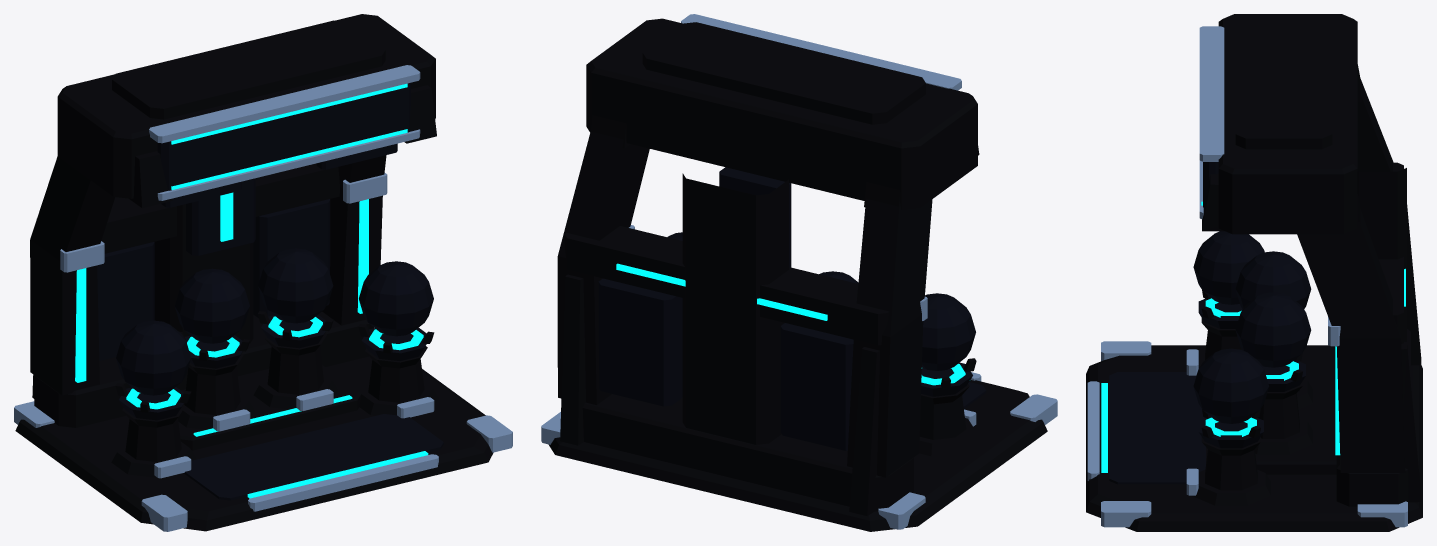
Rendered from SM_Hub_CustomizeKiosk_01.glb.
3 renders of one model, left to right at view 1: azimuth 30°, elevation 25°; view 2: azimuth 150°, elevation 25°; view 3: azimuth 270°, elevation 25°, orthographic. The views are drawn at different scales.
Parts seen in each view (by area): view 1: GEO_CustomizeKiosk_Frame, GEO_CustomizeKiosk_Base, GEO_CustomizeKiosk_SecondaryPanels, GEO_CustomizeKiosk_Trim, GEO_CustomizeKiosk_DisplayHeader, GEO_CustomizeKiosk_CyanAccents, GEO_CustomizeKiosk_PreviewSphere_03, GEO_CustomizeKiosk_PreviewSphere_02, GEO_CustomizeKiosk_PreviewSphere_04, GEO_CustomizeKiosk_PreviewSphere_01, GEO_CustomizeKiosk_DisplayPedestal_03, GEO_CustomizeKiosk_DisplayPedestal_01 (+2 smaller); view 2: GEO_CustomizeKiosk_Frame, GEO_CustomizeKiosk_Base, GEO_CustomizeKiosk_SecondaryPanels, GEO_CustomizeKiosk_Trim, GEO_CustomizeKiosk_PreviewSphere_01, GEO_CustomizeKiosk_DisplayPedestal_01, GEO_CustomizeKiosk_CyanAccents; view 3: GEO_CustomizeKiosk_Frame, GEO_CustomizeKiosk_Base, GEO_CustomizeKiosk_SecondaryPanels, GEO_CustomizeKiosk_Trim, GEO_CustomizeKiosk_PreviewSphere_04, GEO_CustomizeKiosk_PreviewSphere_03, GEO_CustomizeKiosk_DisplayPedestal_04, GEO_CustomizeKiosk_PreviewSphere_01, GEO_CustomizeKiosk_DisplayPedestal_03, GEO_CustomizeKiosk_PreviewSphere_02, GEO_CustomizeKiosk_CyanAccents, GEO_CustomizeKiosk_DisplayPedestal_01.
Part boxes in pixels (box(x1,y1,x2,y2)): GEO_CustomizeKiosk_Frame: box(30, 14, 436, 398); GEO_CustomizeKiosk_Base: box(15, 311, 493, 531); GEO_CustomizeKiosk_SecondaryPanels: box(97, 178, 443, 500); GEO_CustomizeKiosk_Trim: box(14, 65, 512, 531); GEO_CustomizeKiosk_DisplayHeader: box(157, 82, 410, 207); GEO_CustomizeKiosk_CyanAccents: box(75, 83, 428, 498); GEO_CustomizeKiosk_PreviewSphere_03: box(258, 248, 333, 323); GEO_CustomizeKiosk_PreviewSphere_02: box(174, 268, 249, 343); GEO_CustomizeKiosk_PreviewSphere_04: box(359, 261, 433, 336); GEO_CustomizeKiosk_PreviewSphere_01: box(116, 320, 190, 395); GEO_CustomizeKiosk_DisplayPedestal_03: box(253, 311, 337, 409); GEO_CustomizeKiosk_DisplayPedestal_01: box(111, 383, 195, 477); GEO_CustomizeKiosk_Frame: box(557, 18, 979, 515); GEO_CustomizeKiosk_Base: box(548, 380, 1047, 531); GEO_CustomizeKiosk_SecondaryPanels: box(598, 167, 986, 450); GEO_CustomizeKiosk_Trim: box(541, 14, 1057, 529); GEO_CustomizeKiosk_PreviewSphere_01: box(922, 293, 975, 370); GEO_CustomizeKiosk_DisplayPedestal_01: box(919, 358, 980, 456); GEO_CustomizeKiosk_CyanAccents: box(616, 263, 965, 385); GEO_CustomizeKiosk_Frame: box(1202, 14, 1421, 502); GEO_CustomizeKiosk_Base: box(1086, 329, 1422, 531); GEO_CustomizeKiosk_SecondaryPanels: box(1109, 298, 1305, 484); GEO_CustomizeKiosk_Trim: box(1087, 26, 1407, 527); GEO_CustomizeKiosk_PreviewSphere_04: box(1193, 348, 1269, 423); GEO_CustomizeKiosk_PreviewSphere_03: box(1235, 292, 1311, 367); GEO_CustomizeKiosk_DisplayPedestal_04: box(1192, 409, 1270, 505); GEO_CustomizeKiosk_PreviewSphere_01: box(1193, 231, 1264, 304); GEO_CustomizeKiosk_DisplayPedestal_03: box(1254, 353, 1312, 454); GEO_CustomizeKiosk_PreviewSphere_02: box(1235, 251, 1311, 309); GEO_CustomizeKiosk_CyanAccents: box(1101, 201, 1405, 472); GEO_CustomizeKiosk_DisplayPedestal_01: box(1196, 290, 1242, 374).
Size of the model in its own units: 10 by 9.5 by 8.
4 materials, 4 textured.
